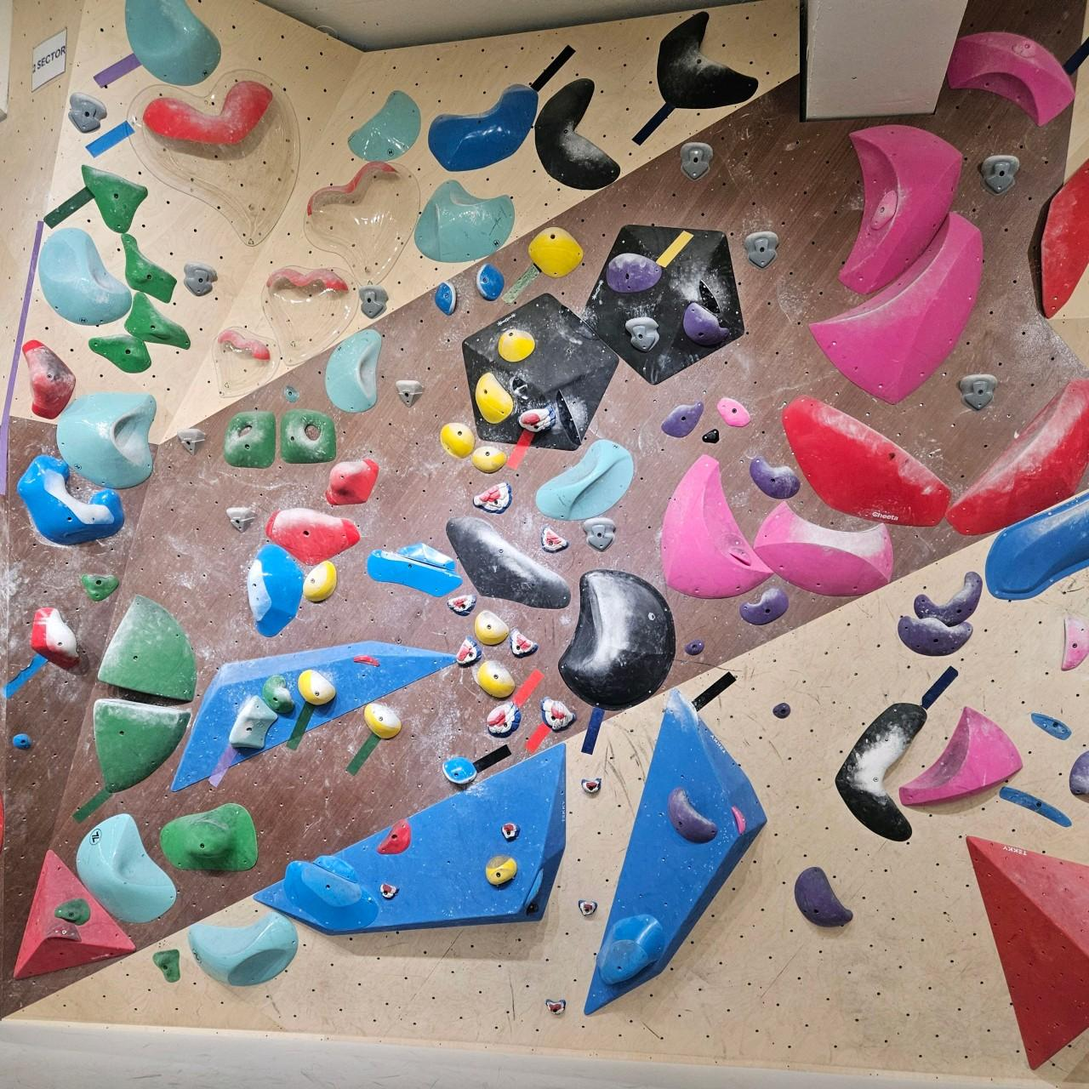hold: (810, 214, 981, 402), (128, 69, 297, 246), (946, 379, 1088, 533), (783, 396, 951, 525), (839, 125, 962, 294), (559, 569, 675, 709), (661, 456, 773, 598), (305, 162, 419, 284), (755, 501, 892, 595), (835, 703, 925, 840), (899, 707, 1022, 805), (946, 31, 1074, 124), (446, 516, 570, 608), (985, 492, 1088, 601), (77, 814, 175, 922), (99, 596, 195, 701), (657, 12, 757, 109), (264, 266, 359, 367), (55, 392, 155, 486), (429, 85, 538, 171), (18, 455, 123, 544), (535, 78, 619, 189), (94, 698, 190, 792), (38, 228, 131, 325), (414, 180, 514, 262), (125, 0, 220, 85), (188, 911, 298, 984), (537, 440, 634, 520), (1041, 160, 1088, 318), (160, 803, 257, 870), (281, 861, 376, 928), (265, 508, 360, 565), (597, 914, 662, 995), (248, 542, 303, 636), (214, 325, 282, 398), (368, 543, 461, 596), (349, 91, 419, 160), (325, 329, 381, 411), (22, 339, 75, 419), (83, 166, 146, 232), (914, 572, 982, 626), (123, 234, 175, 302), (125, 293, 189, 347), (795, 868, 852, 927), (31, 607, 79, 670), (898, 615, 972, 655), (223, 411, 275, 467), (281, 409, 335, 462), (999, 788, 1070, 825), (530, 227, 582, 277), (229, 695, 277, 748), (668, 789, 716, 842), (325, 457, 379, 504), (89, 336, 151, 372), (607, 253, 662, 293), (750, 456, 798, 499), (683, 302, 729, 345), (476, 373, 512, 423), (739, 588, 789, 624), (550, 391, 581, 448), (476, 659, 516, 698), (979, 155, 1019, 194), (68, 93, 106, 133), (1061, 616, 1088, 670), (959, 373, 997, 411), (363, 702, 402, 738), (662, 402, 703, 436), (474, 610, 509, 646), (440, 423, 476, 458), (262, 675, 294, 714), (304, 563, 336, 602), (299, 670, 334, 705), (744, 231, 778, 267), (487, 702, 521, 737), (681, 142, 712, 180), (473, 482, 511, 513), (499, 329, 534, 362), (682, 142, 712, 180), (582, 516, 615, 550), (185, 261, 217, 296), (626, 316, 658, 351), (379, 818, 410, 853), (81, 574, 119, 602), (542, 697, 573, 731), (1032, 713, 1070, 739), (476, 264, 504, 299), (717, 397, 750, 426), (472, 445, 506, 473), (520, 405, 556, 431), (486, 856, 516, 887), (443, 756, 476, 784), (358, 285, 386, 318), (873, 190, 897, 228), (56, 898, 89, 925), (153, 950, 180, 981), (1070, 751, 1088, 795), (456, 636, 482, 666), (46, 921, 84, 941), (510, 630, 538, 657), (177, 426, 205, 453), (396, 379, 423, 407), (698, 281, 720, 315), (540, 526, 567, 553), (525, 868, 542, 909), (225, 508, 255, 531), (435, 282, 456, 314), (448, 594, 476, 615), (512, 376, 526, 402), (732, 806, 744, 834), (581, 778, 602, 794), (501, 823, 519, 841), (545, 999, 566, 1014), (353, 654, 379, 666), (12, 733, 31, 749), (685, 639, 704, 655), (578, 900, 597, 916), (283, 385, 299, 402), (382, 883, 397, 899), (702, 429, 719, 443), (773, 704, 789, 718), (526, 900, 539, 914)
volume: (252, 744, 565, 933), (584, 690, 766, 1014), (171, 641, 453, 790), (967, 835, 1088, 1068), (584, 225, 743, 384), (463, 294, 618, 448), (14, 849, 134, 978)
